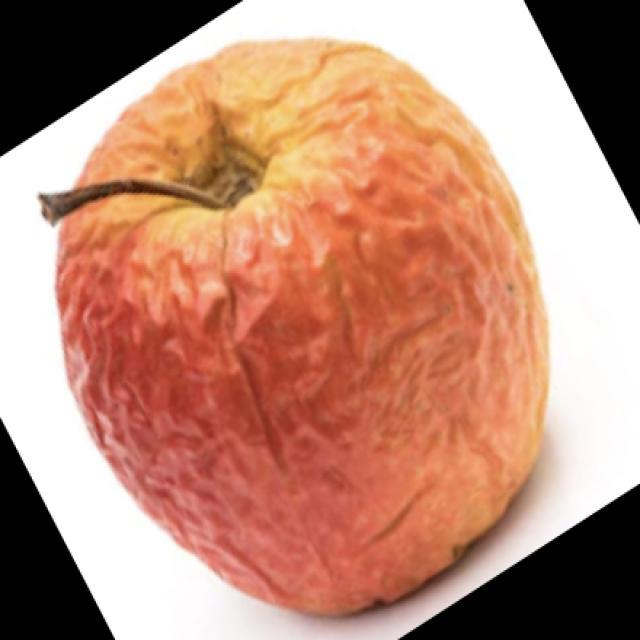Rotten: (82, 55, 545, 610)
